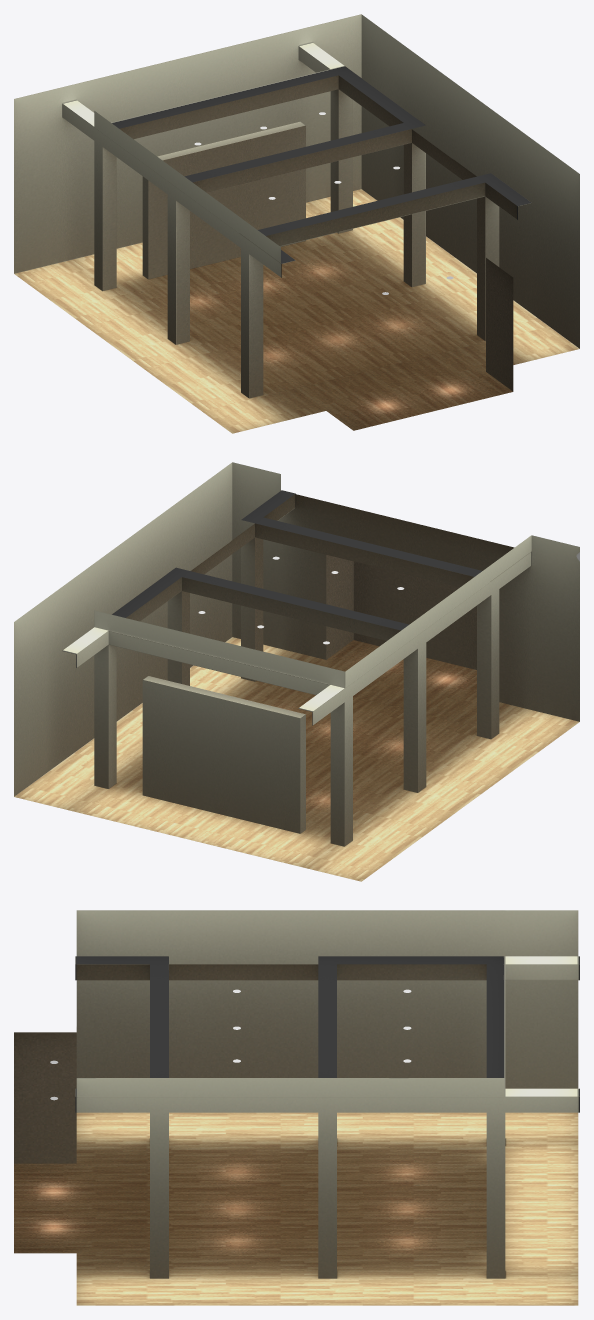
Rendered from Virtual Gallery.gltf.
The picture shows the model from 3 angles, top to bottom: view 1: azimuth 30°, elevation 25°; view 2: azimuth 150°, elevation 25°; view 3: azimuth 270°, elevation 25°; orthographic projection. The views are drawn at different scales.
Parts seen in each view (by area): view 1: Room; view 2: Room; view 3: Room.
Boxes of the visible parts, x1,y1,x2,y2 form: Room: (14,14,579,433); Room: (14,462,579,881); Room: (14,910,579,1305).
Bounding box in the file's own units: 11.02 × 5.3 × 13.54.
Materials: 2 (1 with a texture image).
